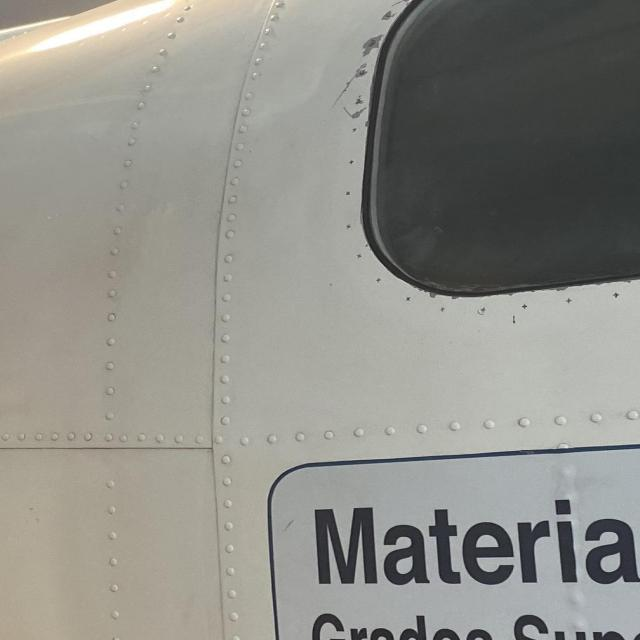Paint-off: (345, 109, 366, 118)
Scratch: (333, 68, 364, 106)
